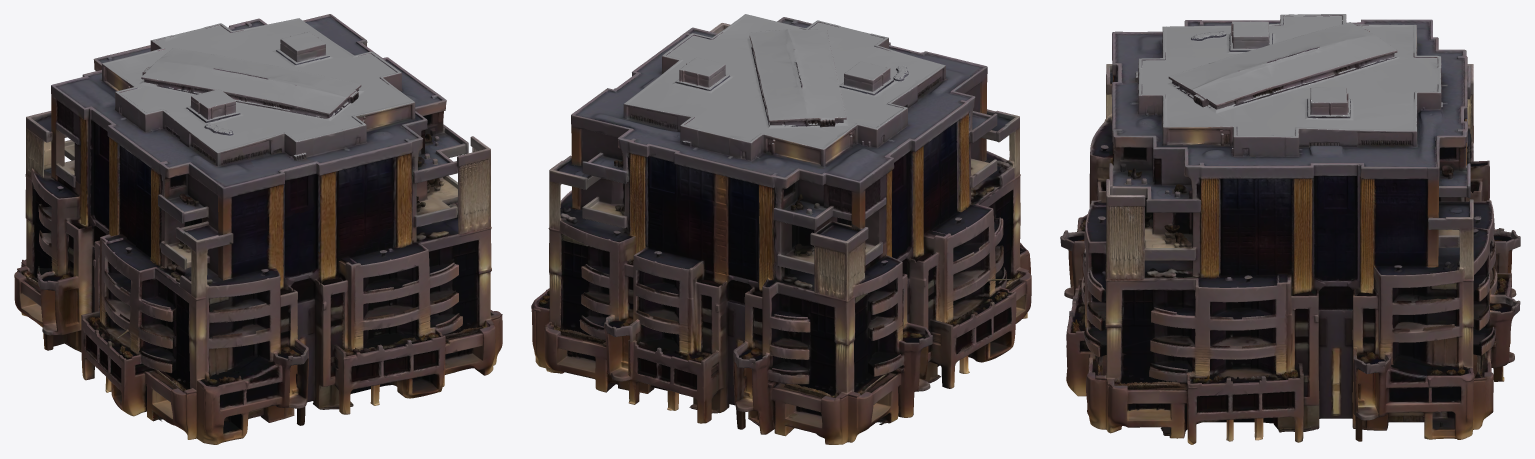
The model's file is aurum_building_v2.glb.
The picture shows the model from 3 angles, left to right: view 1: azimuth 30°, elevation 25°; view 2: azimuth 150°, elevation 25°; view 3: azimuth 270°, elevation 25°; orthographic projection. The views are drawn at different scales.
Visible parts, largest first — view 1: tripo_node_04c4074d-83cb-4f7c-94fa-e4722822d29e; view 2: tripo_node_04c4074d-83cb-4f7c-94fa-e4722822d29e; view 3: tripo_node_04c4074d-83cb-4f7c-94fa-e4722822d29e.
Boxes of the visible parts, x1,y1,x2,y2 form: tripo_node_04c4074d-83cb-4f7c-94fa-e4722822d29e: (14, 14, 502, 444); tripo_node_04c4074d-83cb-4f7c-94fa-e4722822d29e: (531, 14, 1031, 444); tripo_node_04c4074d-83cb-4f7c-94fa-e4722822d29e: (1060, 14, 1520, 444).
Size of the model in its own units: 0.9639 by 0.6872 by 0.9789.
2 materials, 1 textured.
